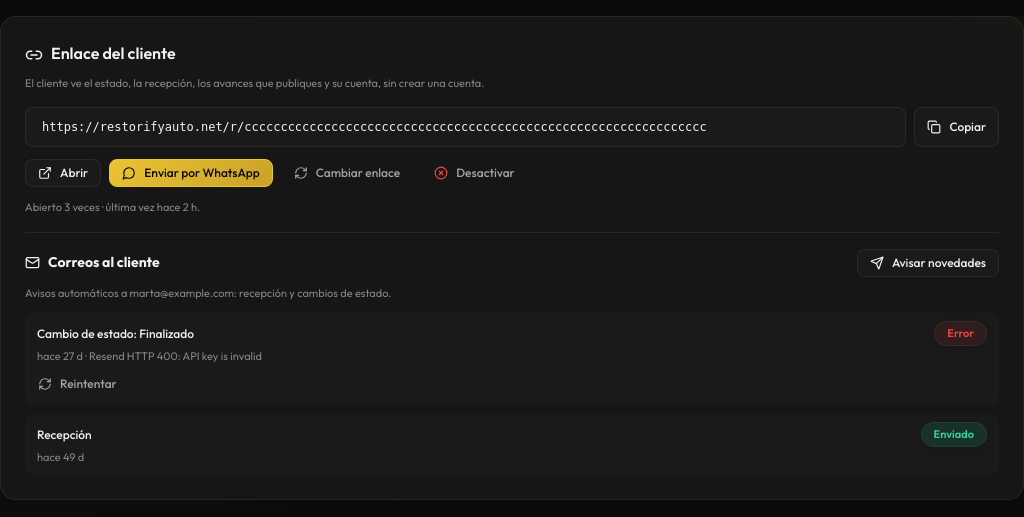
CustomerLinkCard › ofrece reintentar solo un correo que falló, y lo devuelve a la cola
The image size is (1024, 517).
Expected: the text "hace 27 d · Resend HTTP 400: API key is invalid" is shown, [37,350,262,364]
Click the button "Reintentar": coordinates (77, 384) [37,370,118,398]
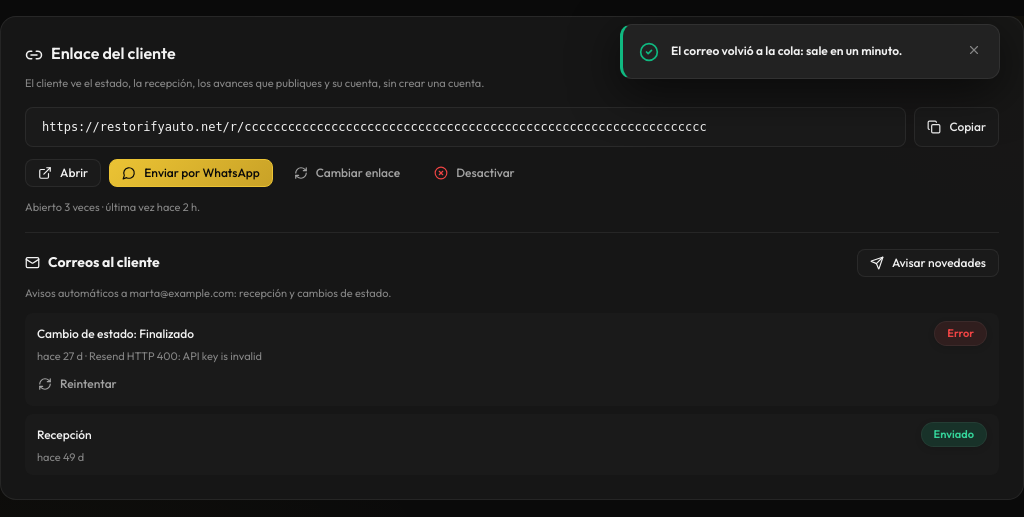
Expected: the text "El correo volvió a la cola: sale en un minuto." is shown, [671,43,902,58]
